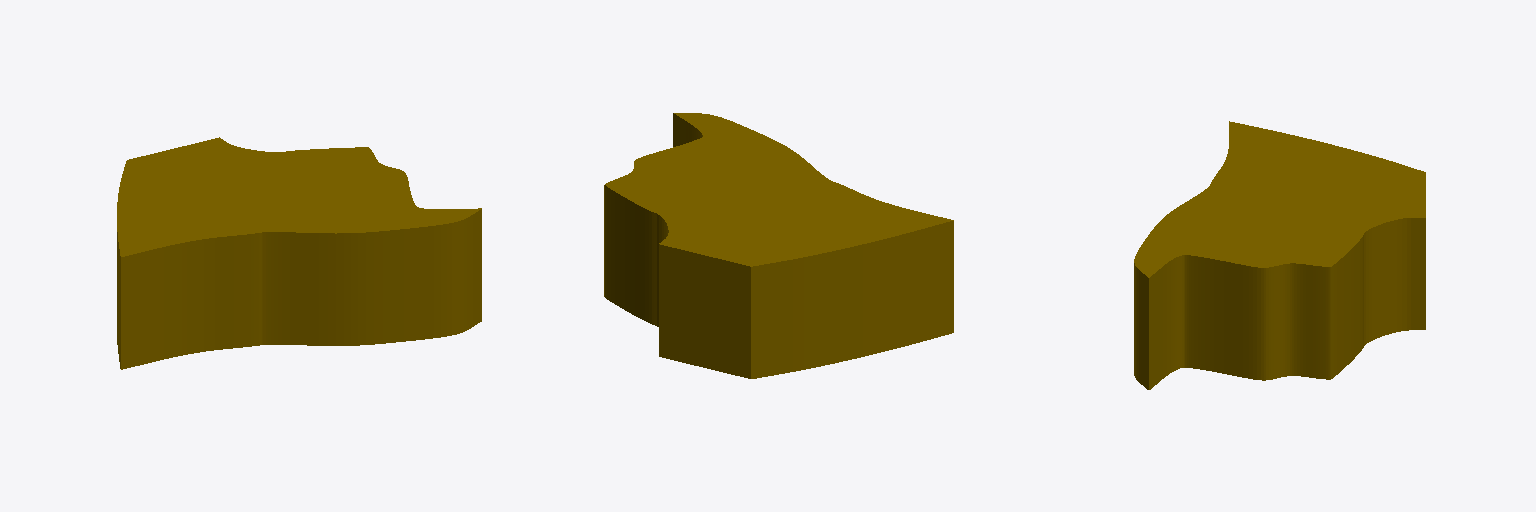
File: North_America_07.obj
The picture shows the model from 3 angles: view 1: azimuth 30°, elevation 25°; view 2: azimuth 150°, elevation 25°; view 3: azimuth 270°, elevation 25°; orthographic projection.
Visible parts, largest first — view 1: North_America_07_path4196; view 2: North_America_07_path4196; view 3: North_America_07_path4196.
Part boxes in pixels (x1,y1,x2,y2): North_America_07_path4196: (117, 137, 481, 369); North_America_07_path4196: (604, 113, 953, 378); North_America_07_path4196: (1134, 121, 1425, 389).
Size of the model in its own units: 0.2987 by 0.1 by 0.2346.